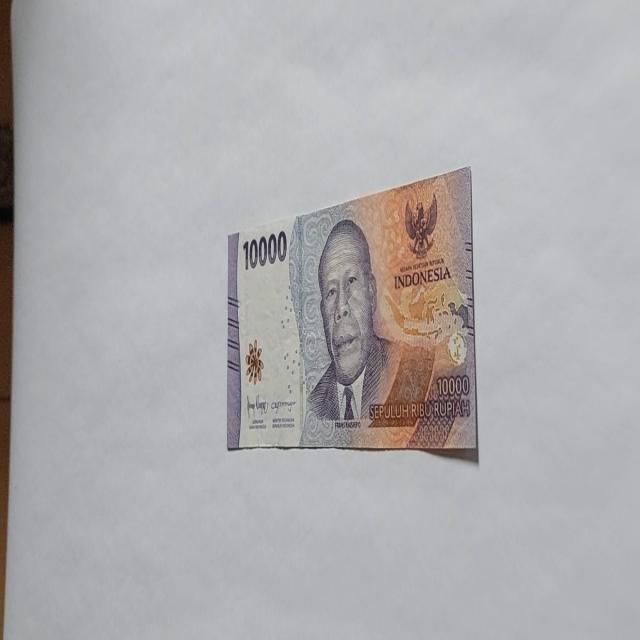sepuluh ribu rupiah: (226, 164, 478, 458)
